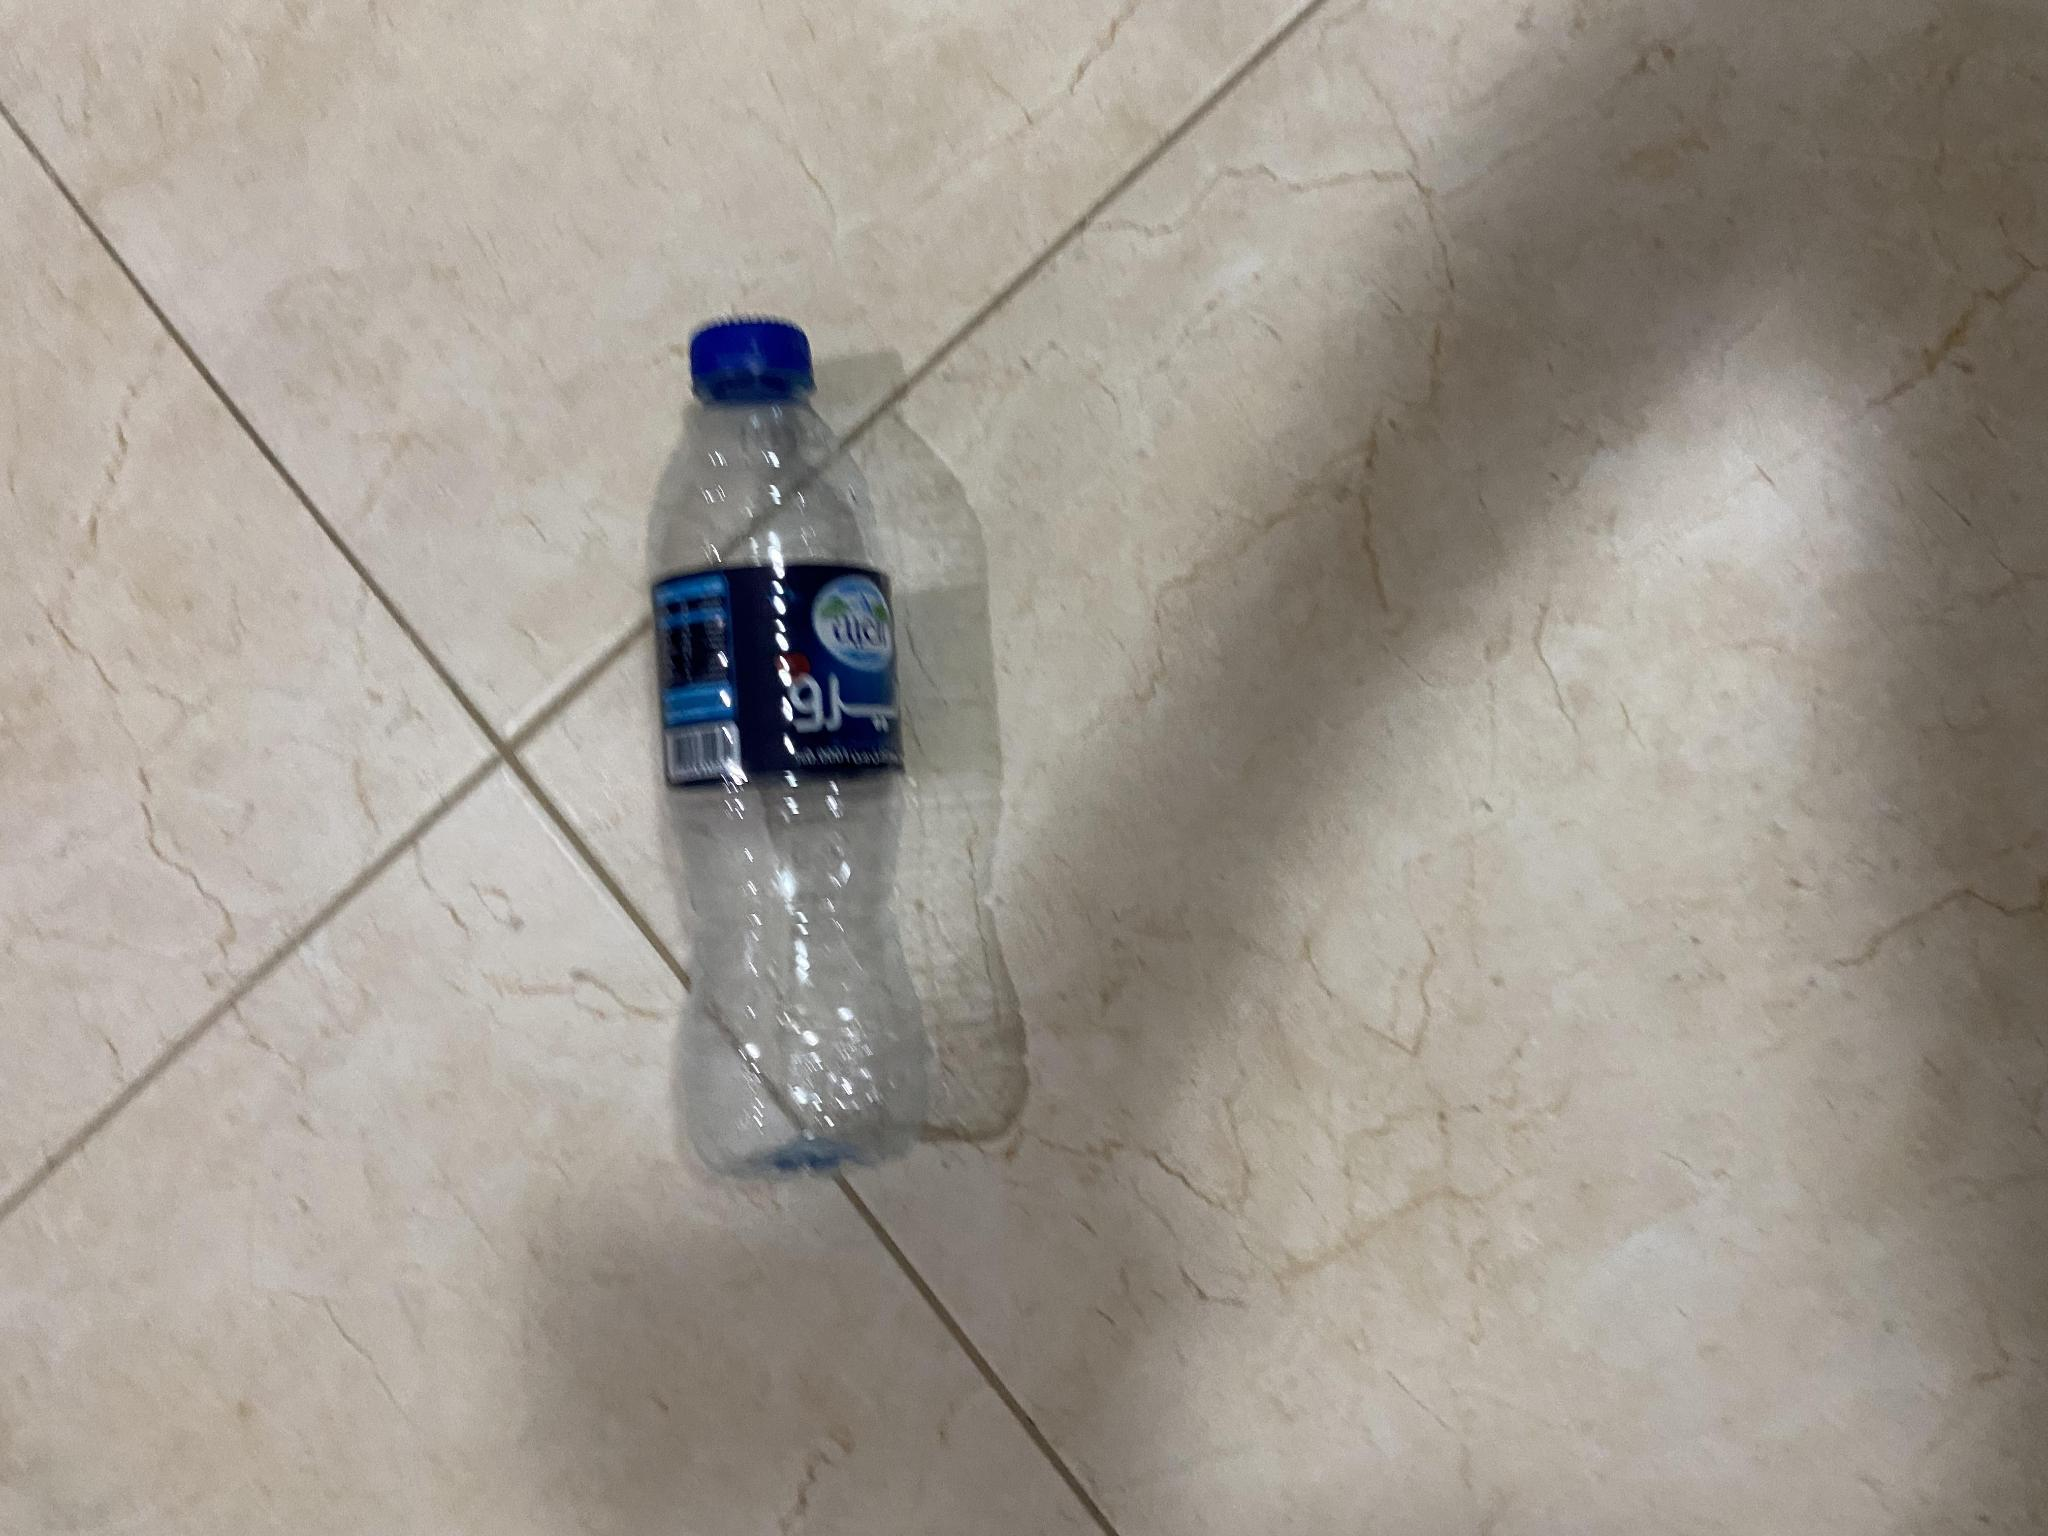bottle: (598, 311, 952, 1187)
